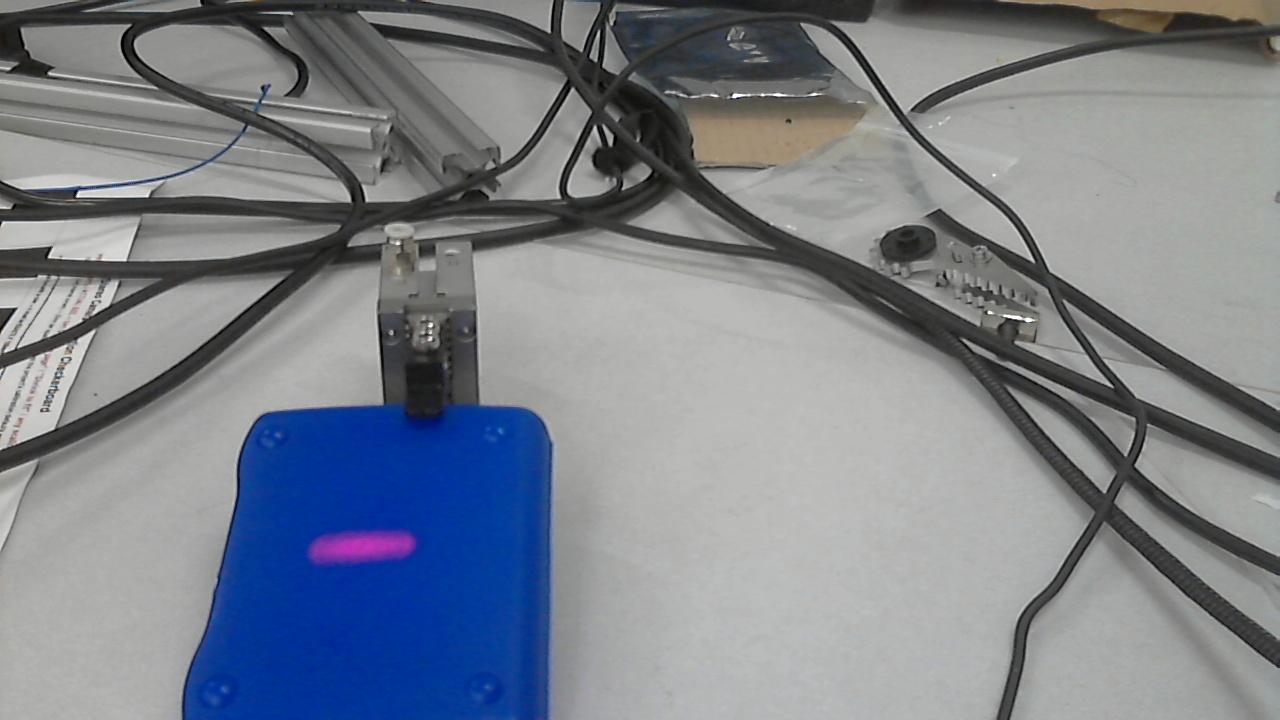Object plastic first aid kit - Material plastic -Color blue -Pdfname 6lew56E5S7E: (267, 508, 424, 574)
